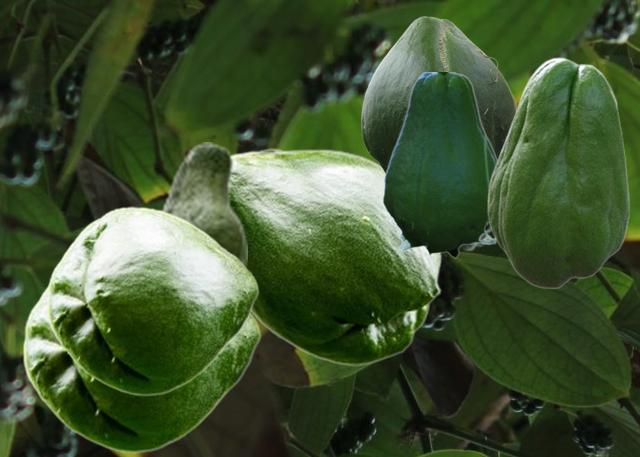sayote: (231, 148, 441, 365), (22, 280, 260, 452), (46, 206, 258, 395), (487, 57, 629, 288), (361, 16, 516, 172), (382, 72, 496, 261), (158, 142, 246, 265)
